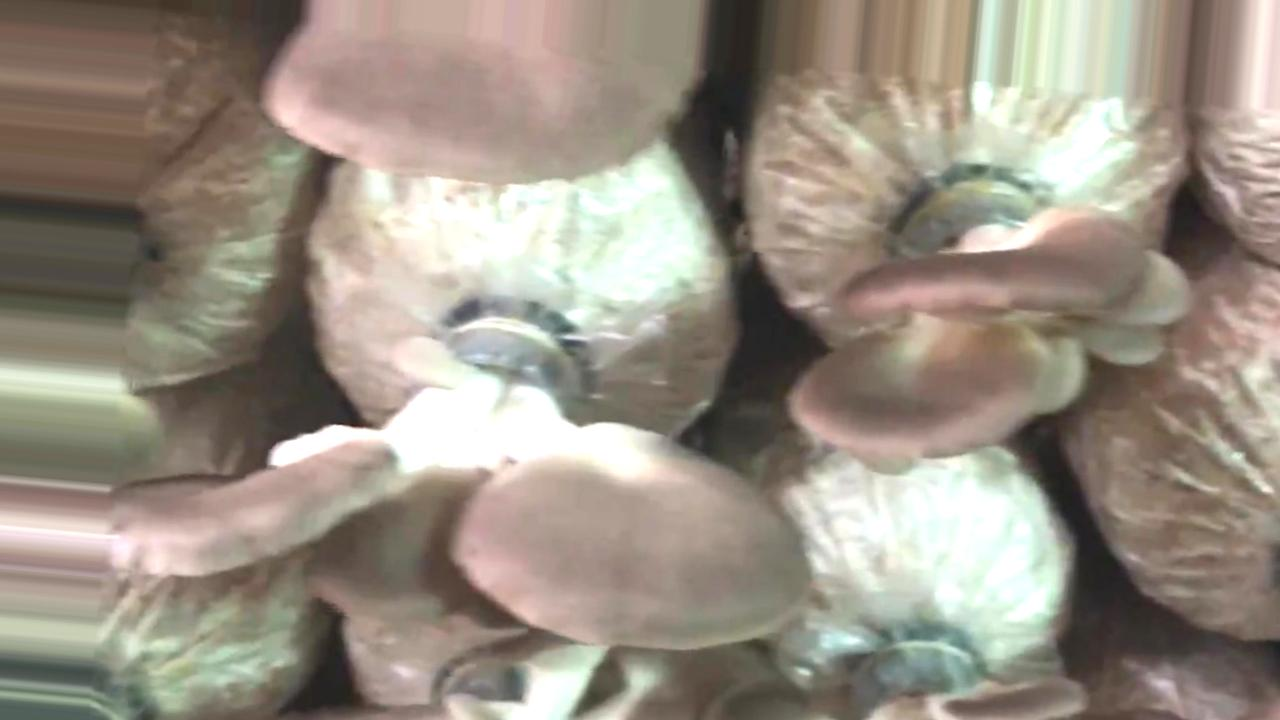nam: (105, 287, 817, 653), (789, 166, 1181, 464), (261, 3, 710, 192)
